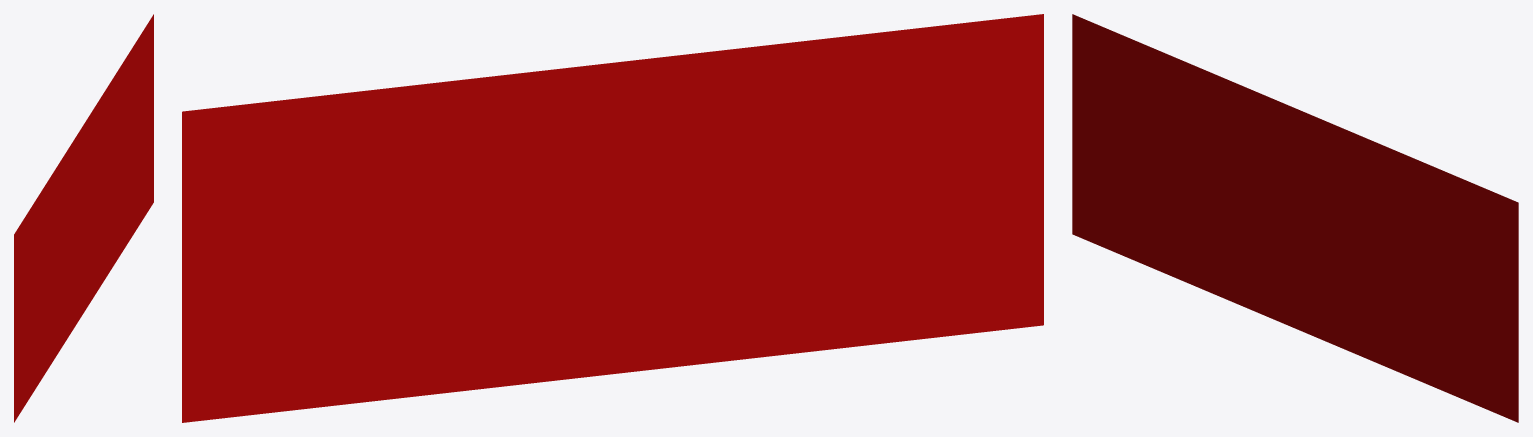
Rendered from Diagonal_TopWall.glb.
3 renders of one model, left to right at view 1: azimuth 30°, elevation 25°; view 2: azimuth 150°, elevation 25°; view 3: azimuth 270°, elevation 25°, orthographic. The views are drawn at different scales.
Parts seen in each view (by area): view 1: Diagonal_TopWall; view 2: Diagonal_TopWall; view 3: Diagonal_TopWall.
Boxes of the visible parts, x1,y1,x2,y2 form: Diagonal_TopWall: (14,14,153,422); Diagonal_TopWall: (182,14,1043,422); Diagonal_TopWall: (1072,14,1518,422).
Bounding box in the file's own units: 0.4589 × 0.25 × 0.4589.
